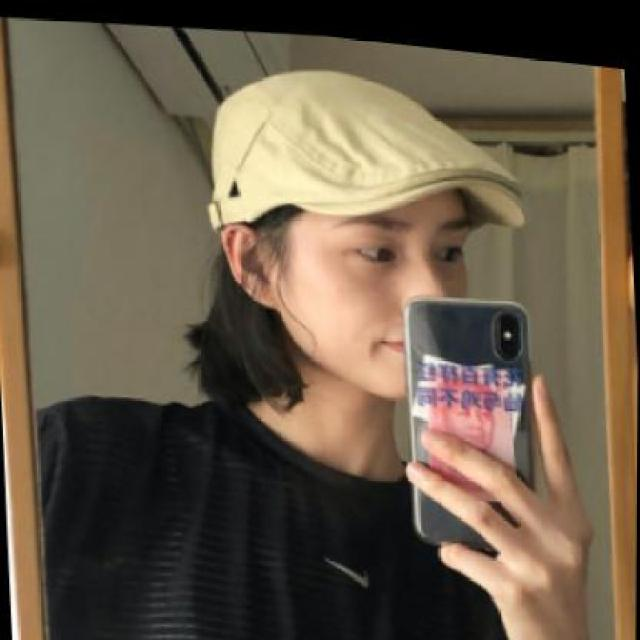hat: (197, 40, 534, 255)
